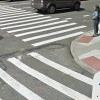Crosswalk: (4, 6, 72, 63)
